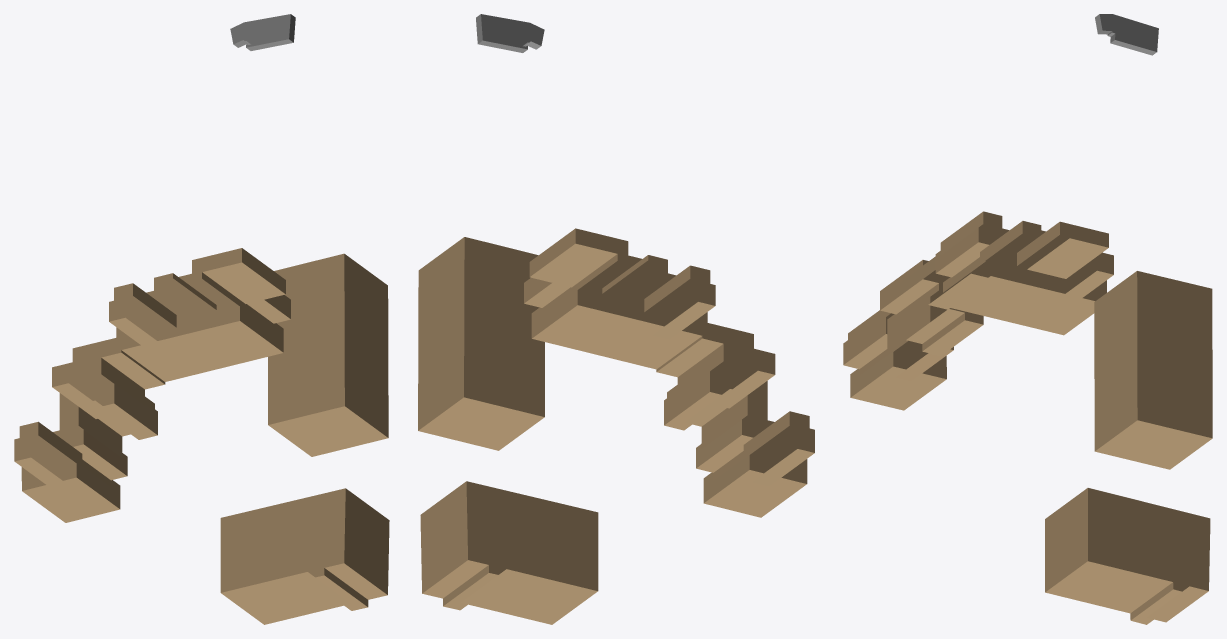
3 renders of one model, left to right at view 1: azimuth 30°, elevation 25°; view 2: azimuth 150°, elevation 25°; view 3: azimuth 330°, elevation 25°, orthographic. The views are drawn at different scales.
Parts seen in each view (by area): view 1: 0_0_3_1_3_2_3; view 2: 0_0_3_1_3_2_3; view 3: 0_0_3_1_3_2_3.
Boxes of the visible parts, x1,y1,x2,y2 form: 0_0_3_1_3_2_3: (14,14,389,624); 0_0_3_1_3_2_3: (418,14,814,624); 0_0_3_1_3_2_3: (843,14,1212,624).
Size of the model in its own units: 118 by 195 by 28.
